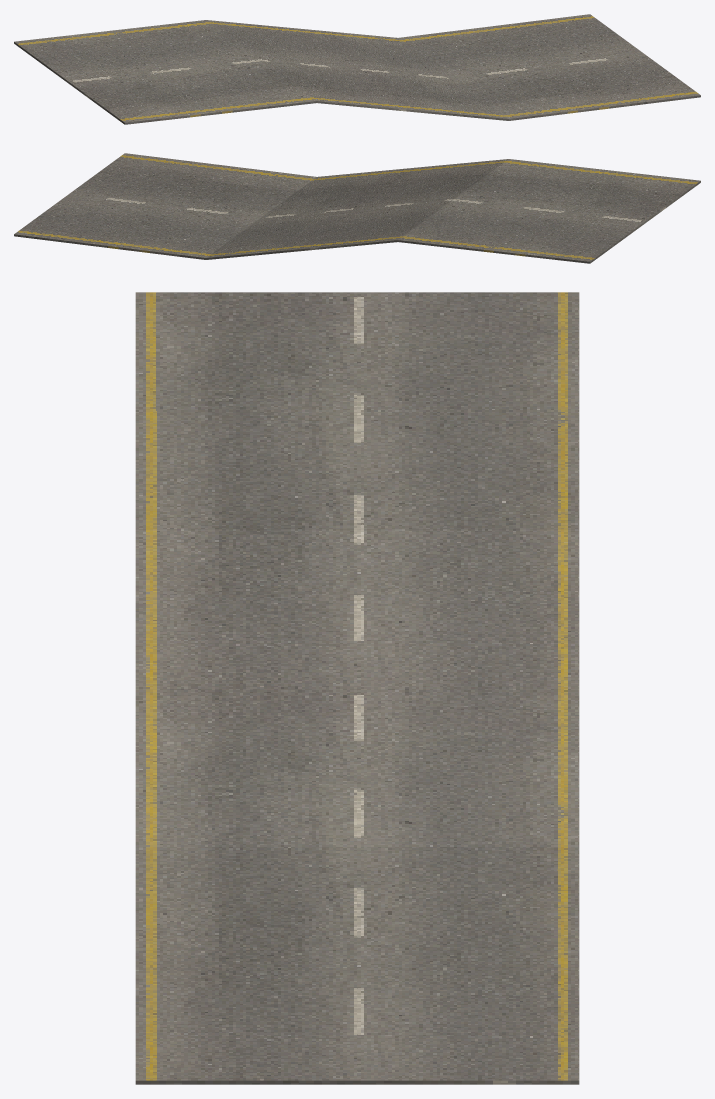
File: road_1_slope_no_sides.glb
3 renders of one model, top to bottom at view 1: azimuth 30°, elevation 25°; view 2: azimuth 150°, elevation 25°; view 3: azimuth 270°, elevation 25°, orthographic. The views are drawn at different scales.
Parts seen in each view (by area): view 1: road_1_slope_no_sides; view 2: road_1_slope_no_sides; view 3: road_1_slope_no_sides.
Boxes of the visible parts, <box> form: road_1_slope_no_sides: <box>14,14,700,124</box>; road_1_slope_no_sides: <box>14,153,700,263</box>; road_1_slope_no_sides: <box>135,292,579,1084</box>.
Bounding box in the file's own units: 48 × 9.16 × 16.
Materials: 1 (1 with a texture image).
